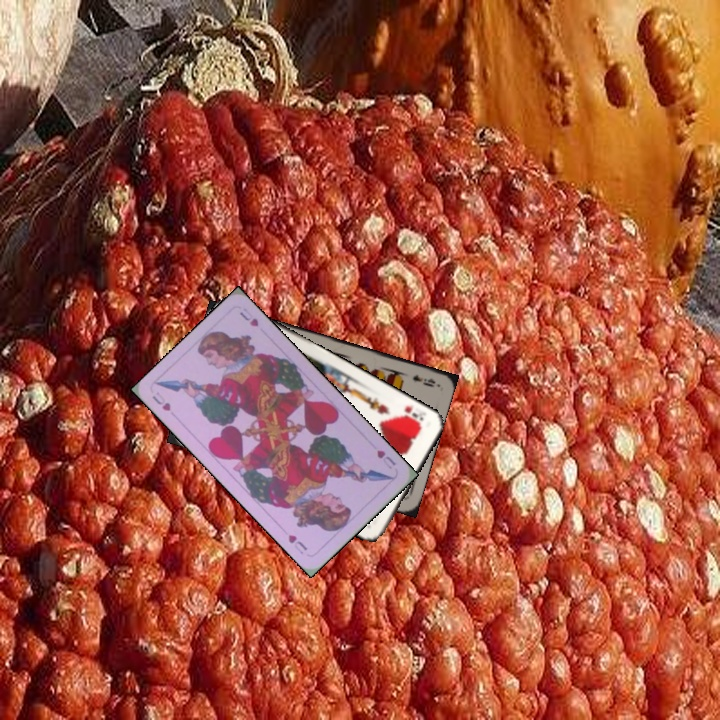E9: (409, 370, 438, 390)
HK: (396, 402, 426, 429)
HU: (148, 387, 173, 414), (373, 446, 398, 472)
